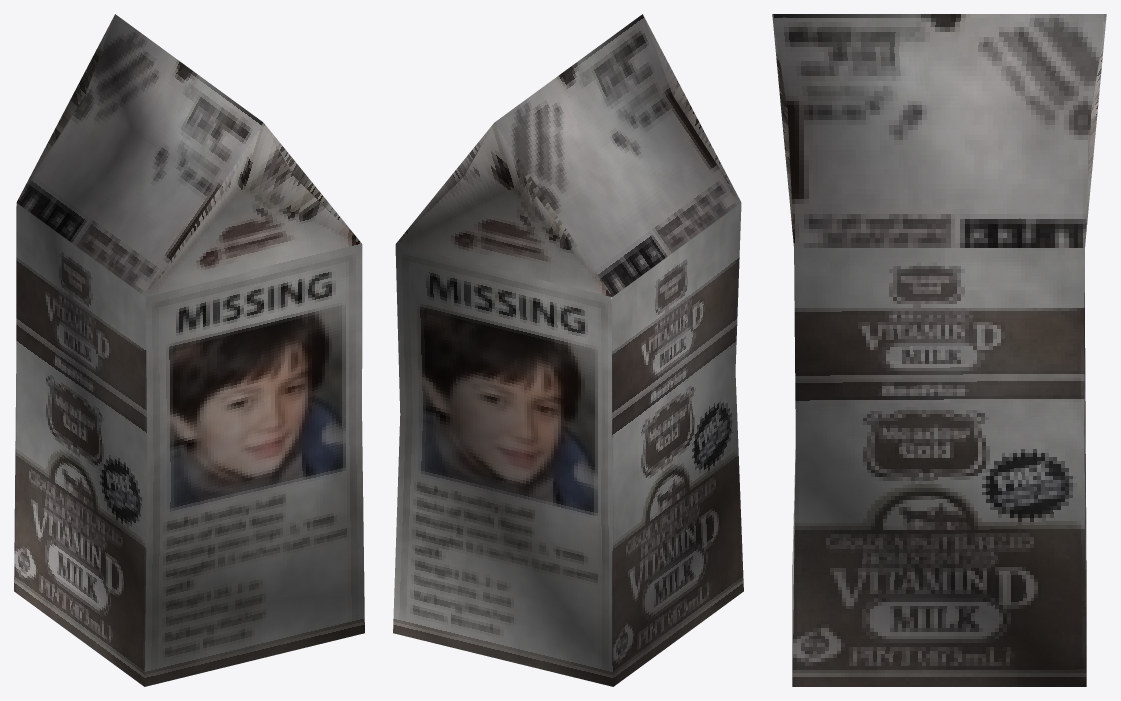
File: caixa_de_leite_estilo_ps1.glb
The picture shows the model from 3 angles, left to right: view 1: azimuth 30°, elevation 25°; view 2: azimuth 150°, elevation 25°; view 3: azimuth 270°, elevation 25°; orthographic projection. The views are drawn at different scales.
Parts seen in each view (by area): view 1: Object_2; view 2: Object_2; view 3: Object_2.
Part boxes in pixels (bbox=[...]): Object_2: bbox=[14, 14, 364, 686]; Object_2: bbox=[393, 14, 743, 686]; Object_2: bbox=[772, 14, 1106, 686].
Bounding box in the file's own units: 2.42 × 5.7 × 2.82.
1 material, 1 textured.
